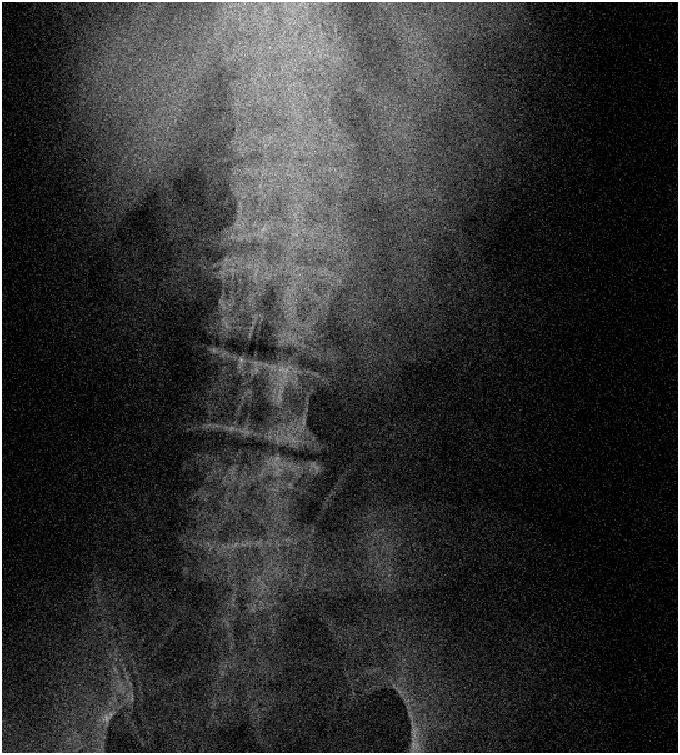lumbar scoliosis: (180, 123, 352, 616)
